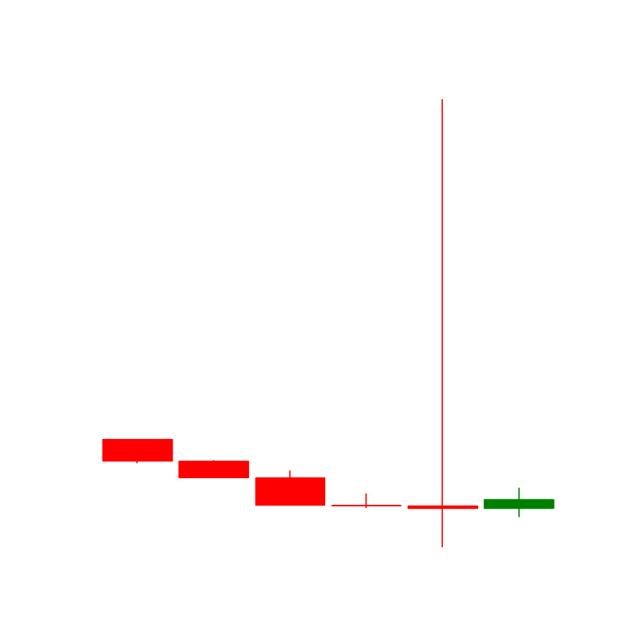Gravenstone Doji: (403, 94, 481, 552), (329, 488, 402, 509)
spinning top: (483, 485, 555, 519)
